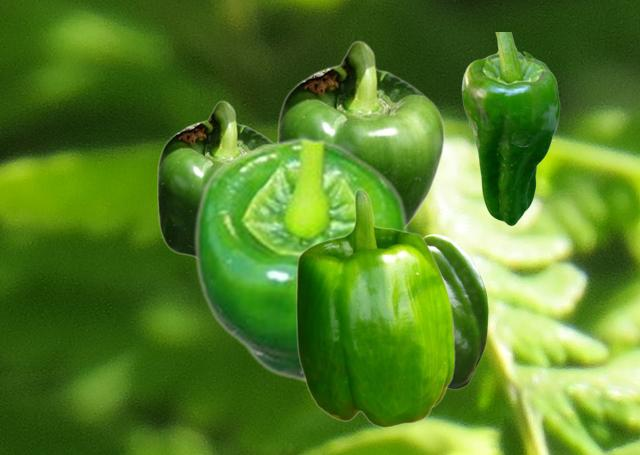bell_pepper: (192, 136, 412, 383), (295, 188, 454, 427), (277, 40, 444, 224), (461, 32, 559, 225), (156, 100, 273, 257), (424, 233, 487, 388)
